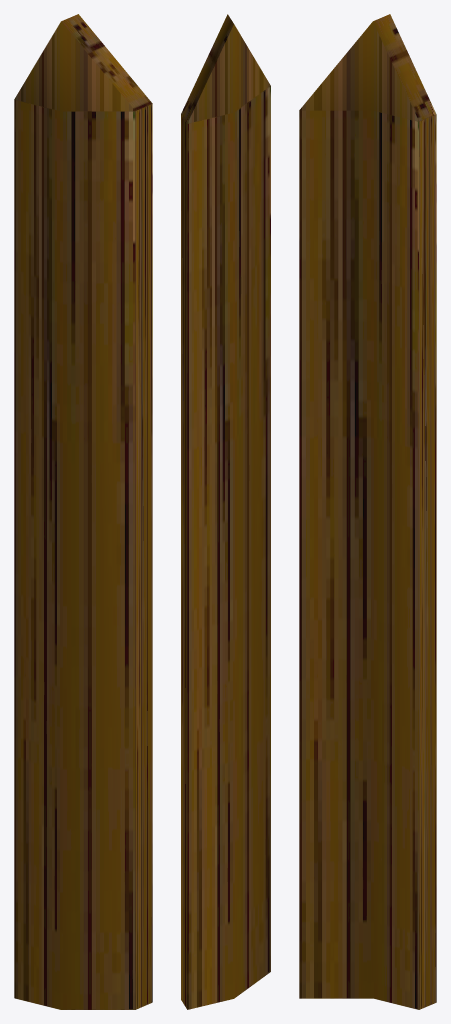
File: reja.obj
The picture shows the model from 3 angles, left to right: view 1: azimuth 90°, elevation 25°; view 2: azimuth 150°, elevation 25°; view 3: azimuth 270°, elevation 25°; orthographic projection.
Visible parts, largest first — view 1: Cubo_142_2; view 2: Cubo_142_2; view 3: Cubo_142_2.
Boxes of the visible parts, box(x1,y1,x2,y2) form: Cubo_142_2: box(14, 14, 152, 1009); Cubo_142_2: box(181, 14, 270, 1009); Cubo_142_2: box(299, 14, 436, 1009).
Bounding box in the file's own units: 9.1 × 220 × 27.97.
Materials: 1 (1 with a texture image).
